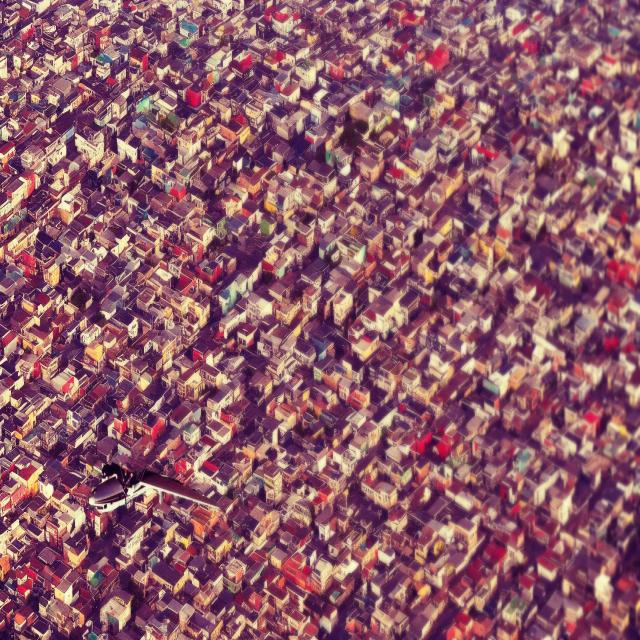airplane: (88, 464, 220, 516)
